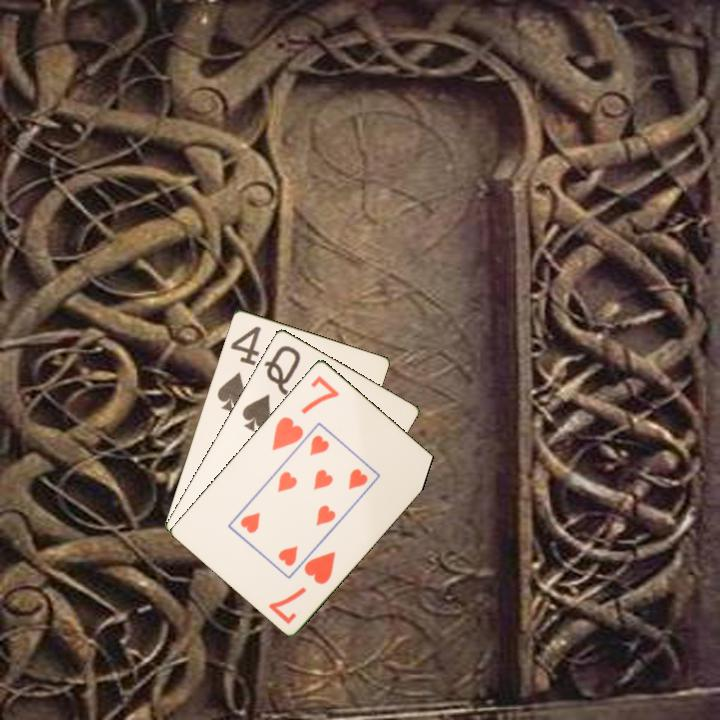4s: (213, 322, 264, 414)
7h: (268, 371, 342, 453), (265, 547, 339, 627)
Qs: (238, 341, 304, 434)
